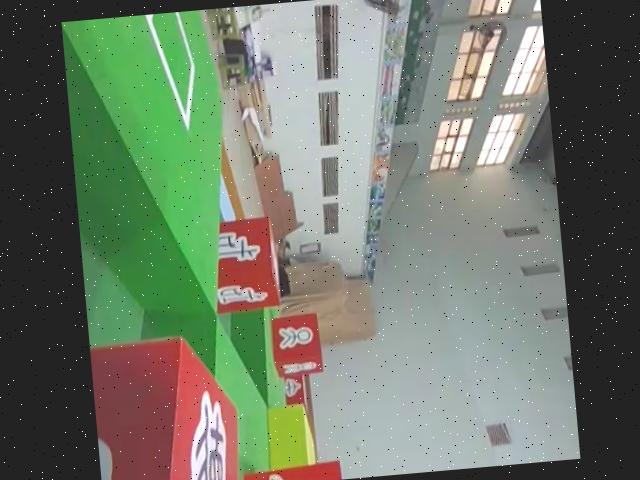R1: (232, 458, 344, 480)
R2 Fake: (88, 331, 243, 480)
R2 Real: (208, 214, 282, 314), (268, 312, 325, 377)
